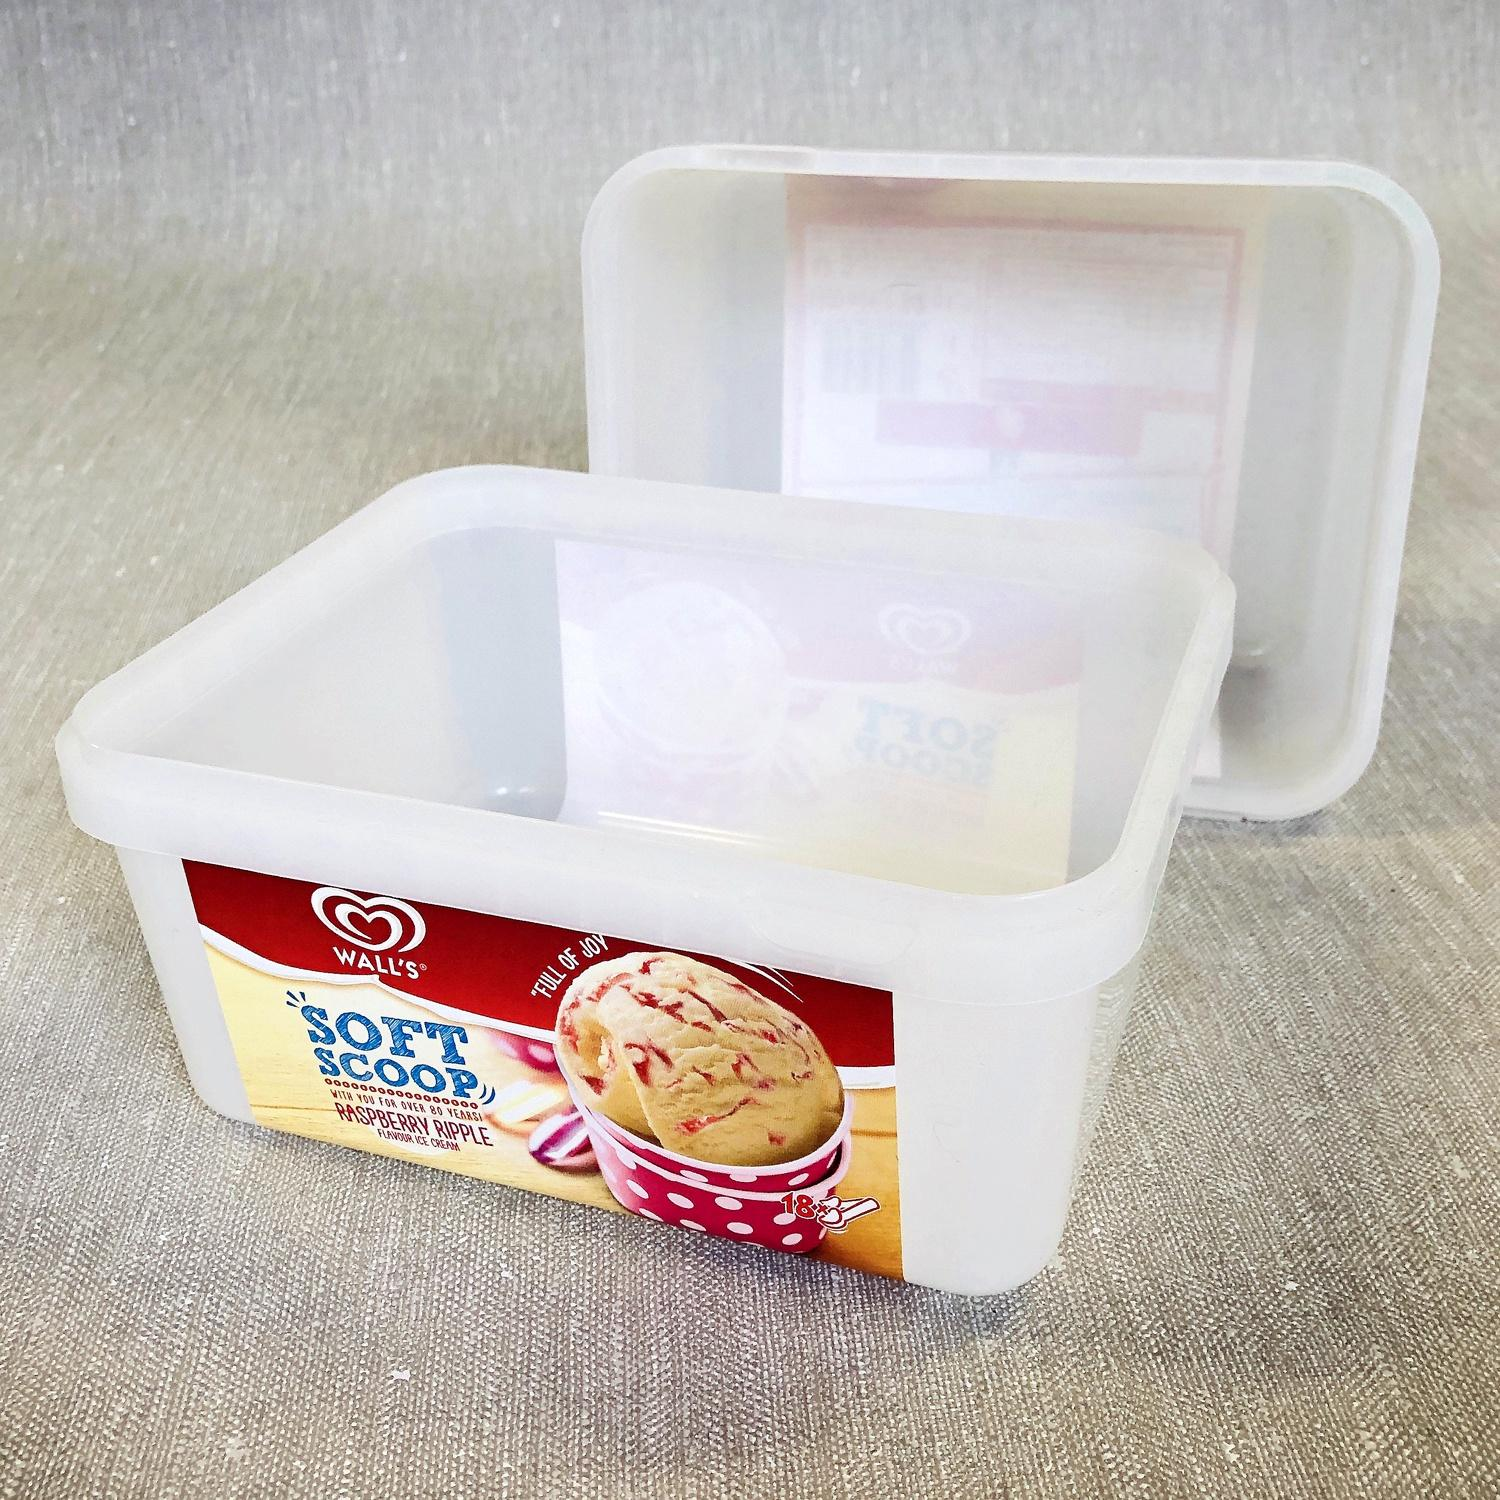plastic: (60, 155, 1352, 1293)
